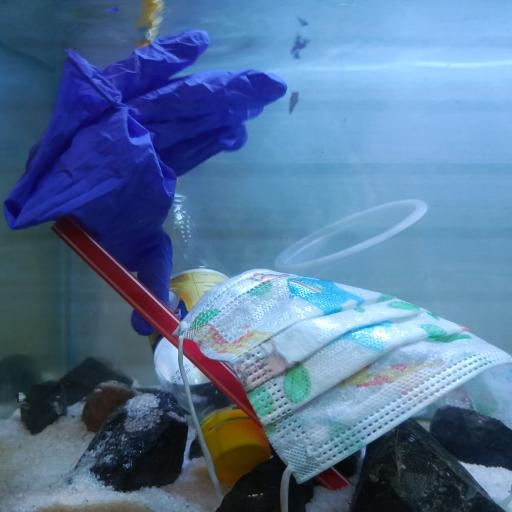bottle_cap: (206, 419, 270, 480)
glove: (0, 29, 288, 335)
mask: (173, 267, 512, 484)
plastic_bottle: (154, 191, 272, 480)
plastic_cup: (275, 199, 443, 315)
plastic_straw: (49, 214, 350, 488)
